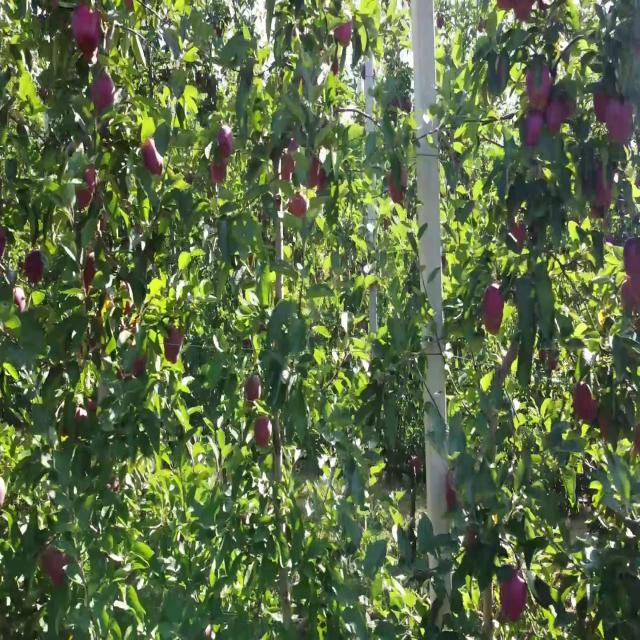apple: (72, 7, 103, 53), (500, 575, 529, 624), (608, 99, 634, 146), (528, 63, 552, 110), (44, 547, 70, 588), (484, 284, 505, 332), (548, 99, 575, 135), (576, 383, 599, 425), (596, 163, 617, 208), (76, 170, 97, 212), (92, 78, 116, 114), (280, 142, 299, 185), (24, 248, 44, 284), (388, 170, 408, 206), (144, 142, 164, 178), (524, 113, 544, 149), (164, 327, 184, 363), (592, 92, 612, 126), (624, 277, 640, 318), (308, 163, 328, 194), (624, 241, 640, 279), (288, 191, 308, 220), (76, 398, 97, 425), (220, 127, 235, 160), (256, 419, 272, 448), (212, 156, 228, 185), (336, 21, 353, 48), (84, 255, 96, 292), (484, 312, 504, 334), (516, 0, 535, 23), (248, 376, 262, 405), (512, 220, 528, 245), (448, 476, 457, 510), (136, 355, 148, 377), (496, 0, 514, 14), (0, 227, 8, 258), (632, 426, 640, 457), (16, 291, 27, 313), (600, 419, 611, 441), (592, 206, 603, 220)
